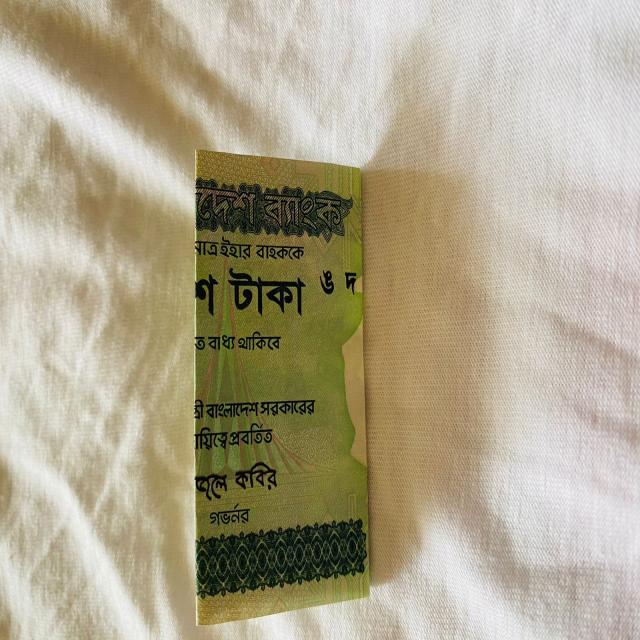Taka: (195, 140, 372, 628)
